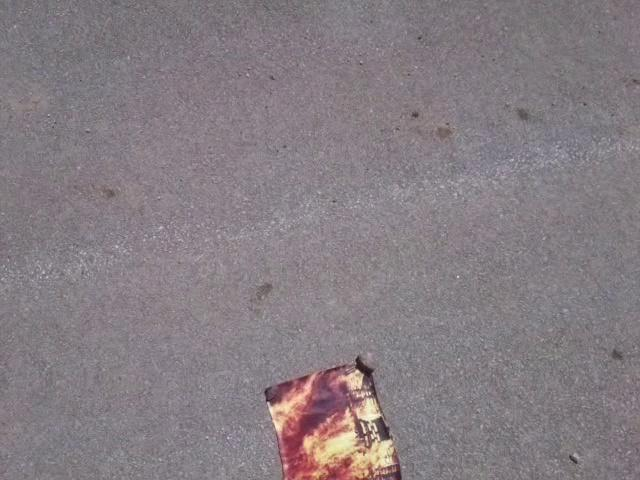fire-poster: (262, 351, 404, 479)
